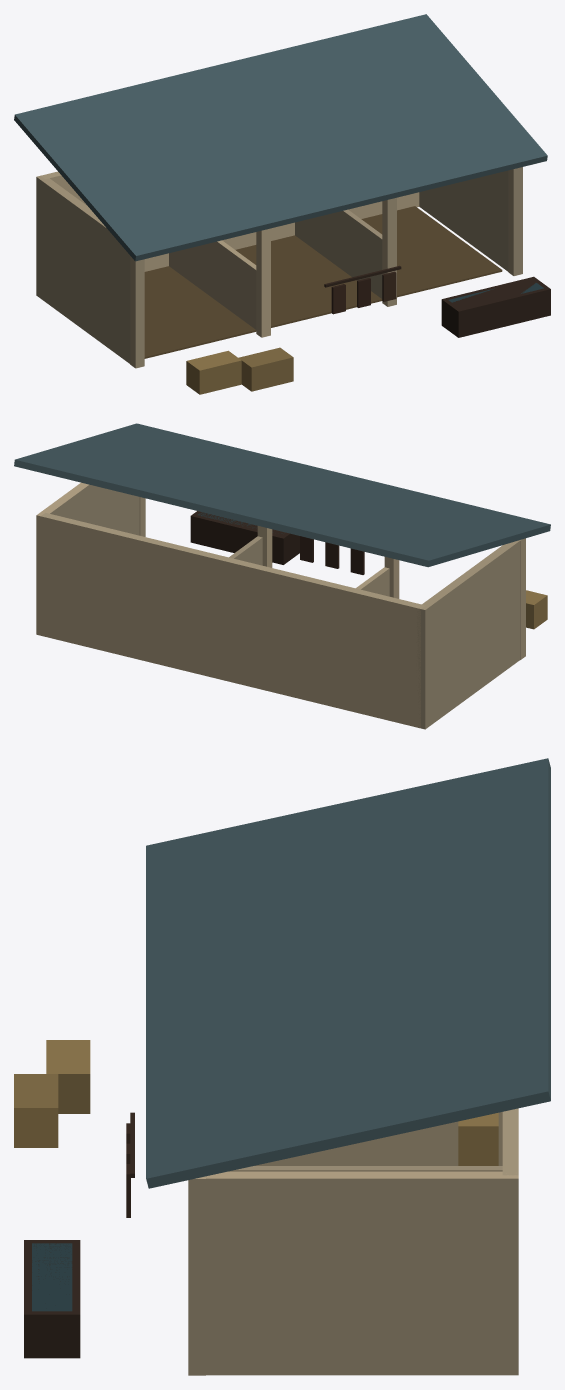
Rendered from walk_veiled_stable.glb.
The picture shows the model from 3 angles, top to bottom: view 1: azimuth 30°, elevation 25°; view 2: azimuth 150°, elevation 25°; view 3: azimuth 270°, elevation 25°; orthographic projection. The views are drawn at different scales.
Parts seen in each view (by area): view 1: walk_veiled_stable_roof, walk_veiled_stable; view 2: walk_veiled_stable, walk_veiled_stable_roof; view 3: walk_veiled_stable_roof, walk_veiled_stable.
Part boxes in pixels (x1=…): walk_veiled_stable_roof: x1=14, y1=14, x2=547, y2=261; walk_veiled_stable: x1=36, y1=167, x2=550, y2=394; walk_veiled_stable: x1=36, y1=482, x2=547, y2=729; walk_veiled_stable_roof: x1=14, y1=423, x2=550, y2=567; walk_veiled_stable_roof: x1=146, y1=758, x2=550, y2=1188; walk_veiled_stable: x1=14, y1=1040, x2=518, y2=1375.
Size of what is drawn, in the model's own units: 9.8 by 4.04 by 6.68.
1 material, 1 textured.
